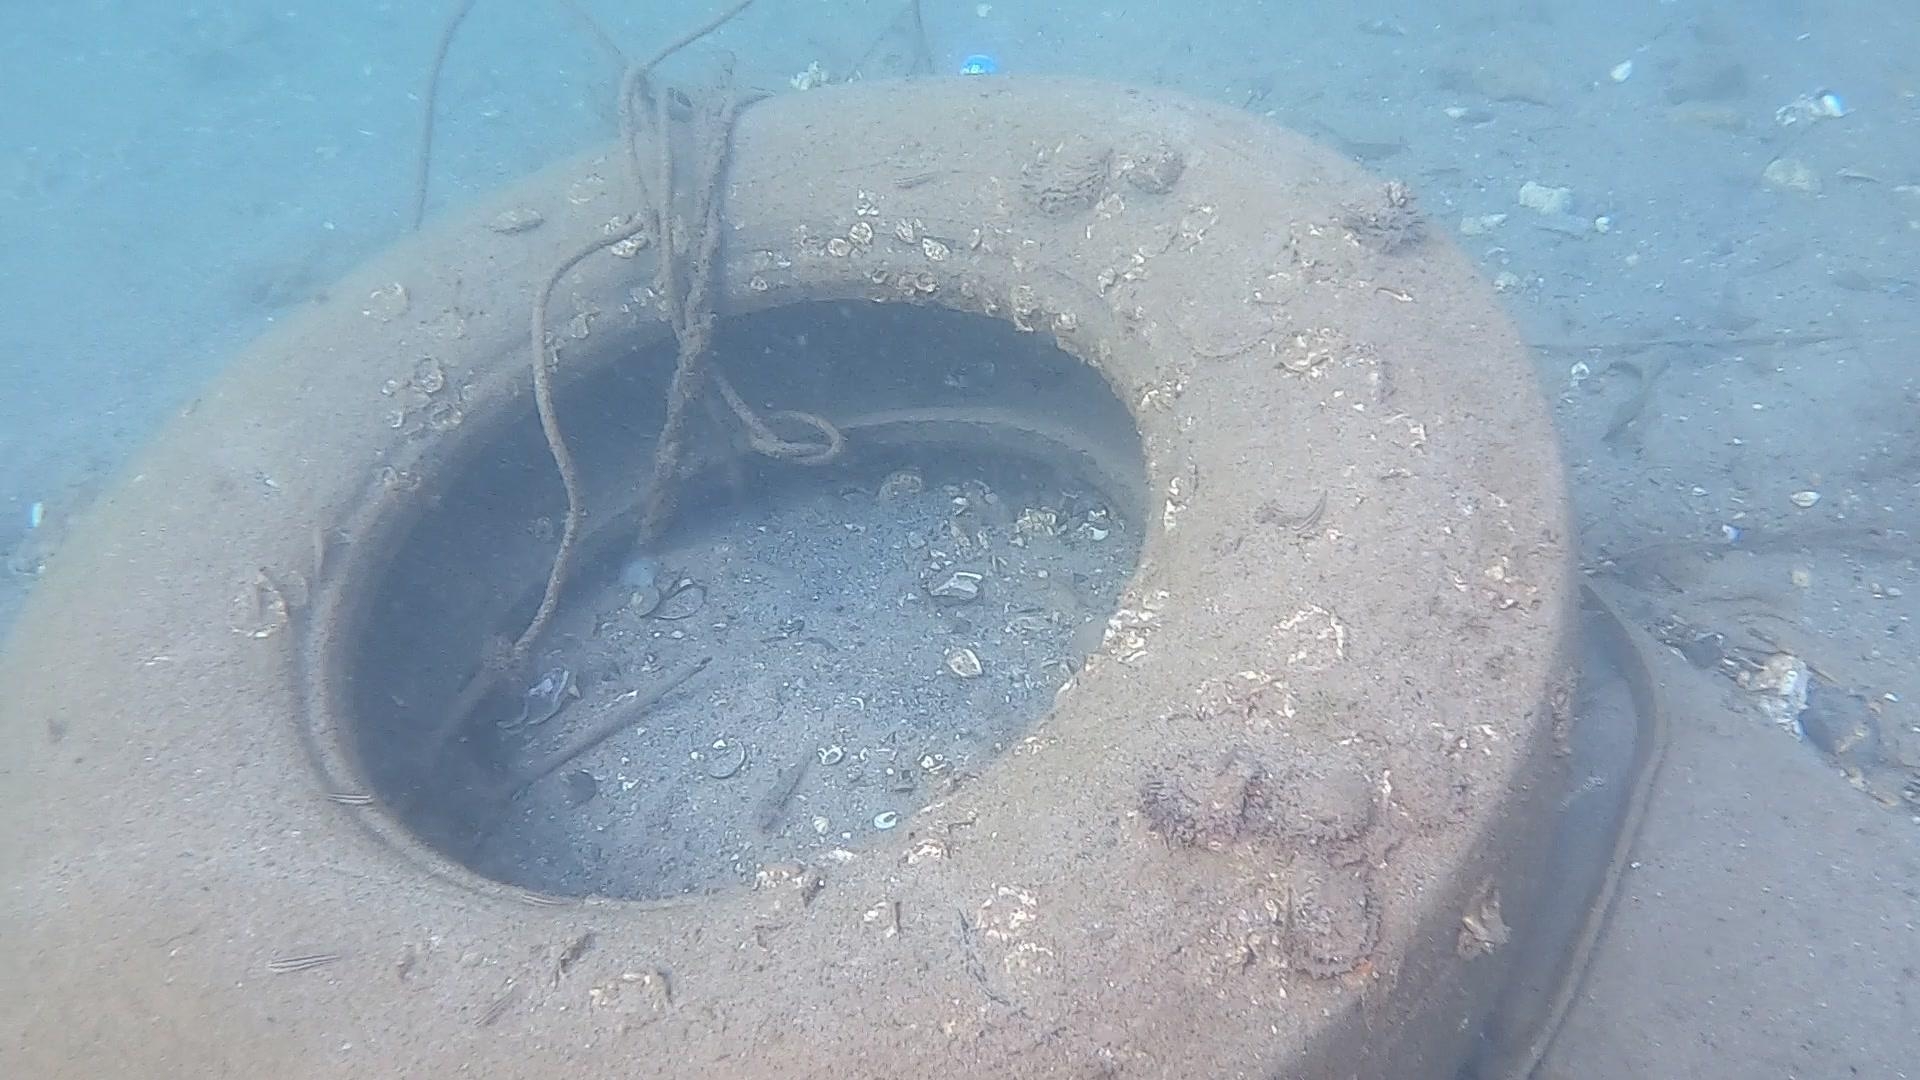bundle of ropes: (410, 1, 927, 649)
tire: (3, 67, 1582, 1080)
